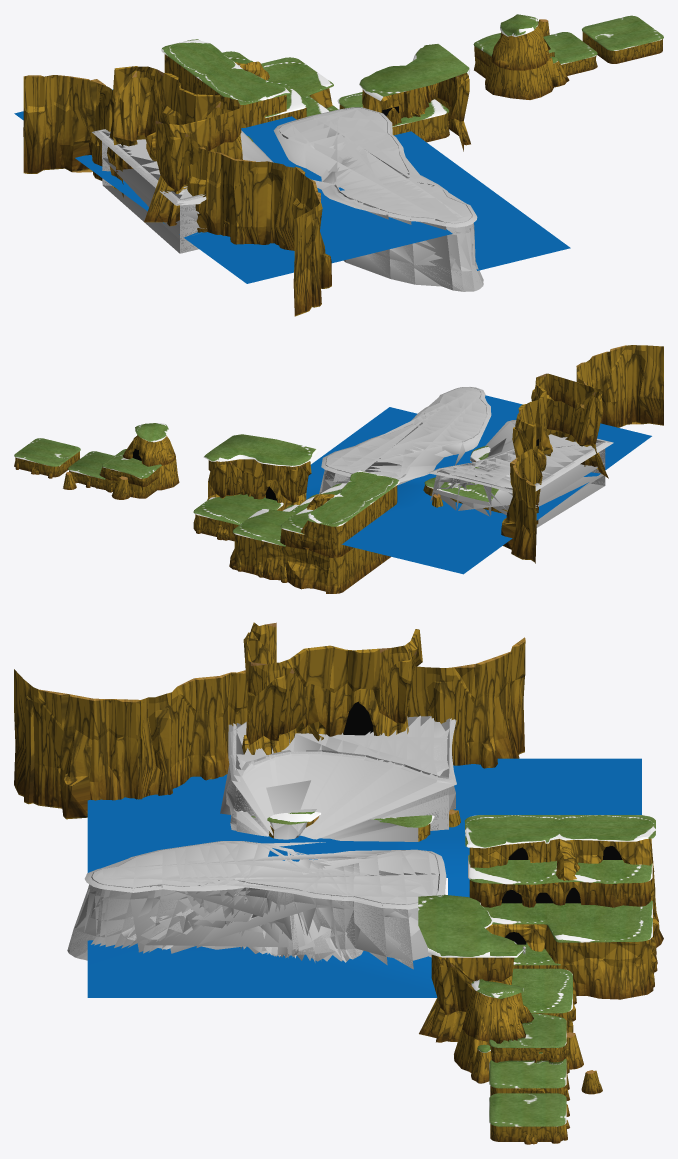
File: terrain12.FBX
3 renders of one model, top to bottom at view 1: azimuth 30°, elevation 25°; view 2: azimuth 150°, elevation 25°; view 3: azimuth 270°, elevation 25°, orthographic. The views are drawn at different scales.
Parts seen in each view (by area): view 1: Object036, Plane004, Object034, Dont Touch this water, Lowered Water, Plane033; view 2: Object036, Object034, Dont Touch this water, Plane033, Plane004, Lowered Water; view 3: Object036, Dont Touch this water, Object034, Plane004, Plane033, Lowered Water.
Boxes of the visible parts, <box> form: Object036: <box>23,66,483,316</box>; Plane004: <box>473,14,663,99</box>; Object034: <box>161,39,338,127</box>; Dont Touch this water: <box>14,89,570,270</box>; Lowered Water: <box>119,150,452,283</box>; Plane033: <box>337,44,470,151</box>; Object036: <box>319,345,663,563</box>; Object034: <box>229,470,399,593</box>; Dont Touch this water: <box>306,407,547,574</box>; Plane033: <box>193,434,318,541</box>; Plane004: <box>14,423,179,499</box>; Lowered Water: <box>413,395,651,511</box>; Object036: <box>14,622,525,969</box>; Dont Touch this water: <box>87,758,641,997</box>; Object034: <box>464,815,663,999</box>; Plane004: <box>454,979,602,1144</box>; Plane033: <box>418,895,576,1042</box>; Lowered Water: <box>87,774,392,872</box>.
Bounding box in the file's own units: 4423 × 1142 × 3313.
